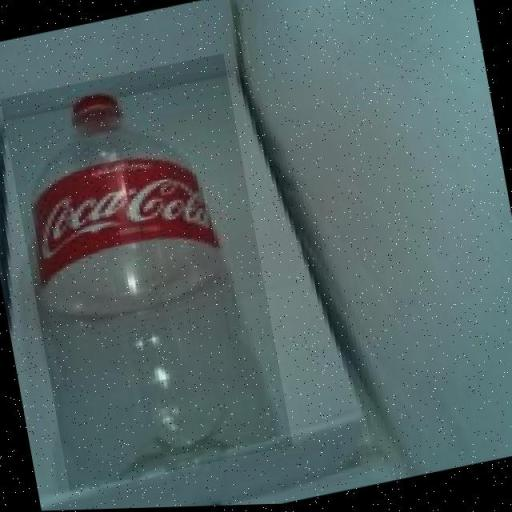plastic: (0, 52, 294, 494)
